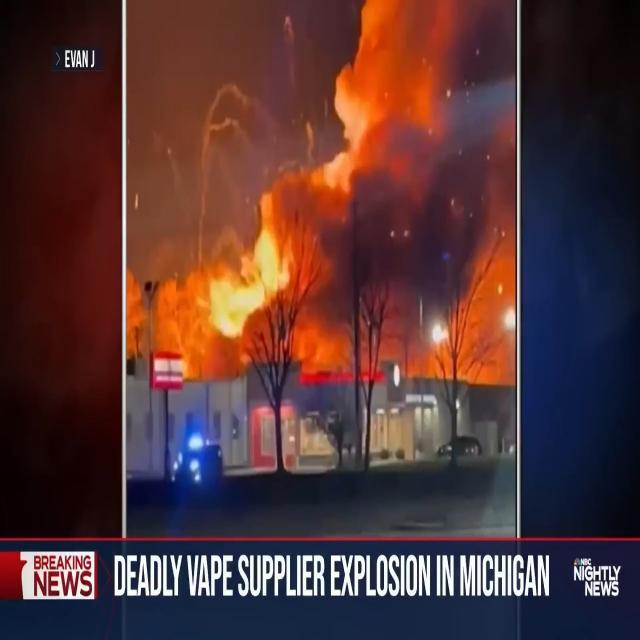fire: (124, 6, 518, 383)
